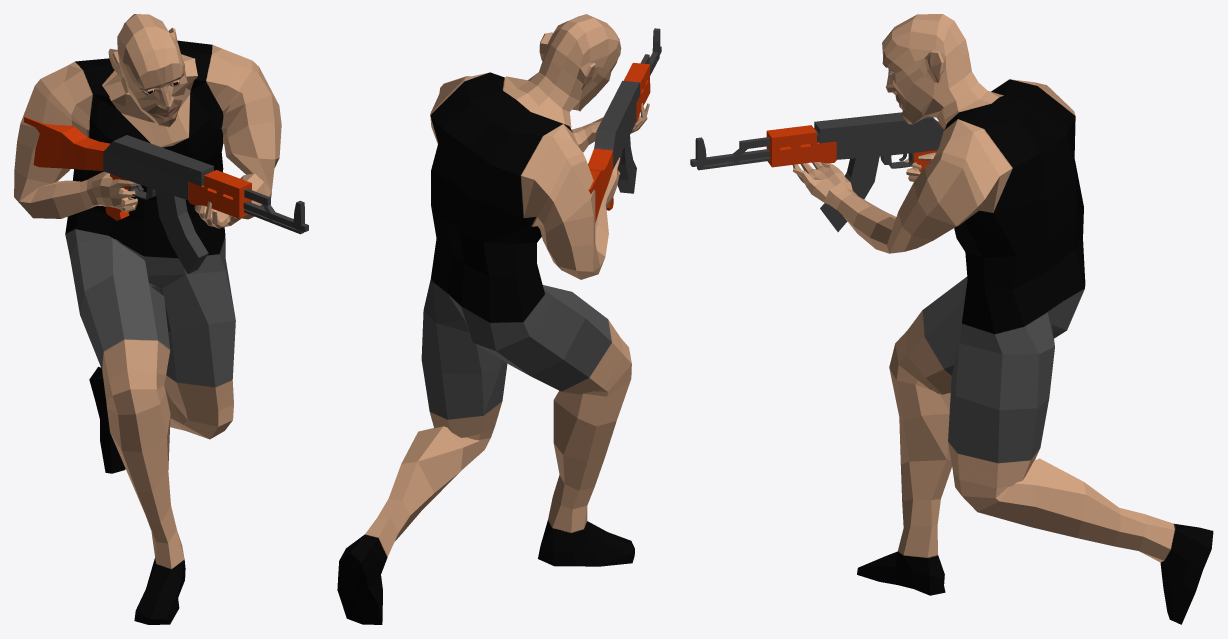
The model's file is PlayerWalk(26).obj.
The picture shows the model from 3 angles, left to right: view 1: azimuth 30°, elevation 25°; view 2: azimuth 150°, elevation 25°; view 3: azimuth 270°, elevation 25°; orthographic projection. The views are drawn at different scales.
Visible parts, largest first — view 1: Plane002, Object001; view 2: Plane002, Object001; view 3: Plane002, Object001.
Boxes of the visible parts, x1=… form: Plane002: x1=14, y1=14, x2=281, y2=624; Object001: x1=24, y1=116, x2=308, y2=273; Plane002: x1=337, y1=14, x2=649, y2=624; Object001: x1=588, y1=28, x2=661, y2=222; Plane002: x1=792, y1=14, x2=1213, y2=624; Object001: x1=690, y1=112, x2=944, y2=231.
Bounding box in the file's own units: 591 × 1546 × 1289.
